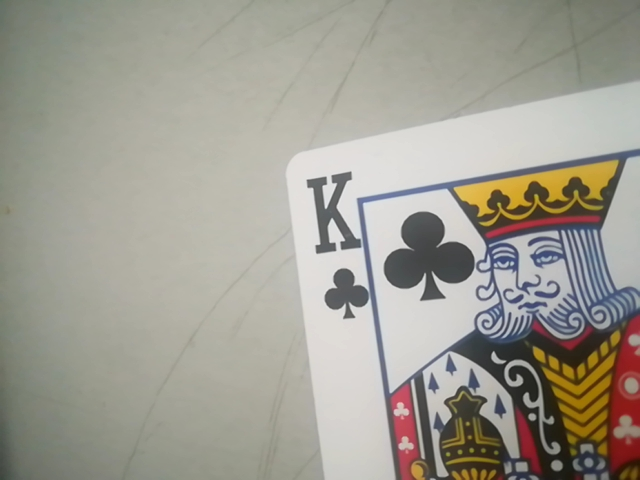mh k: (287, 29, 640, 480)
